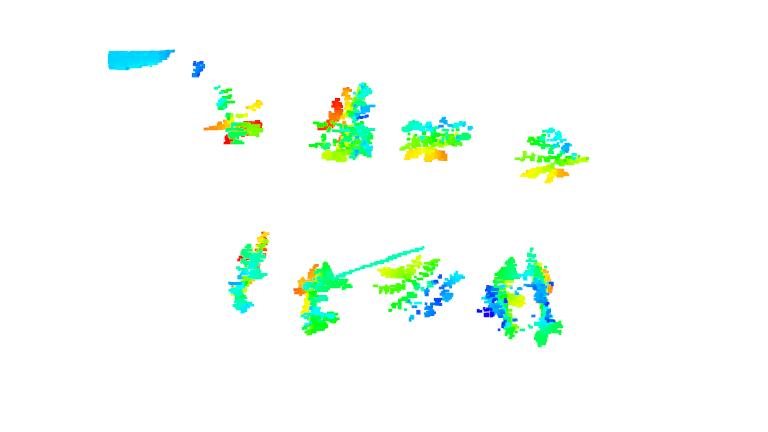chickpea: (485, 250, 565, 347), (376, 248, 464, 322), (307, 81, 379, 164), (511, 127, 593, 184), (297, 262, 353, 337), (226, 227, 272, 313), (207, 85, 265, 149), (402, 114, 474, 165)
